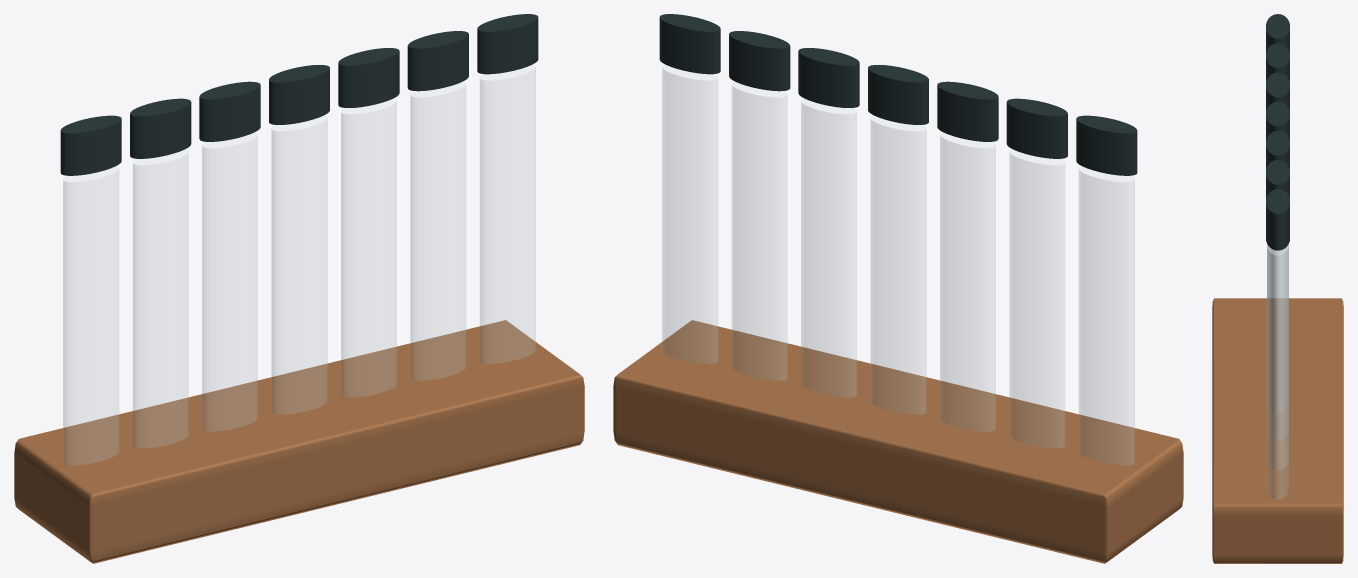
Rendered from wp-porte-epices.glb.
The picture shows the model from 3 angles, left to right: view 1: azimuth 30°, elevation 25°; view 2: azimuth 150°, elevation 25°; view 3: azimuth 270°, elevation 25°; orthographic projection. The views are drawn at different scales.
Parts seen in each view (by area): view 1: wp-porte-epices; view 2: wp-porte-epices; view 3: wp-porte-epices.
Part boxes in pixels (<box>): wp-porte-epices: <box>14,14,584,563</box>; wp-porte-epices: <box>613,14,1183,563</box>; wp-porte-epices: <box>1212,14,1343,563</box>.
Bounding box in the file's own units: 0.45 × 0.35 × 0.12.
